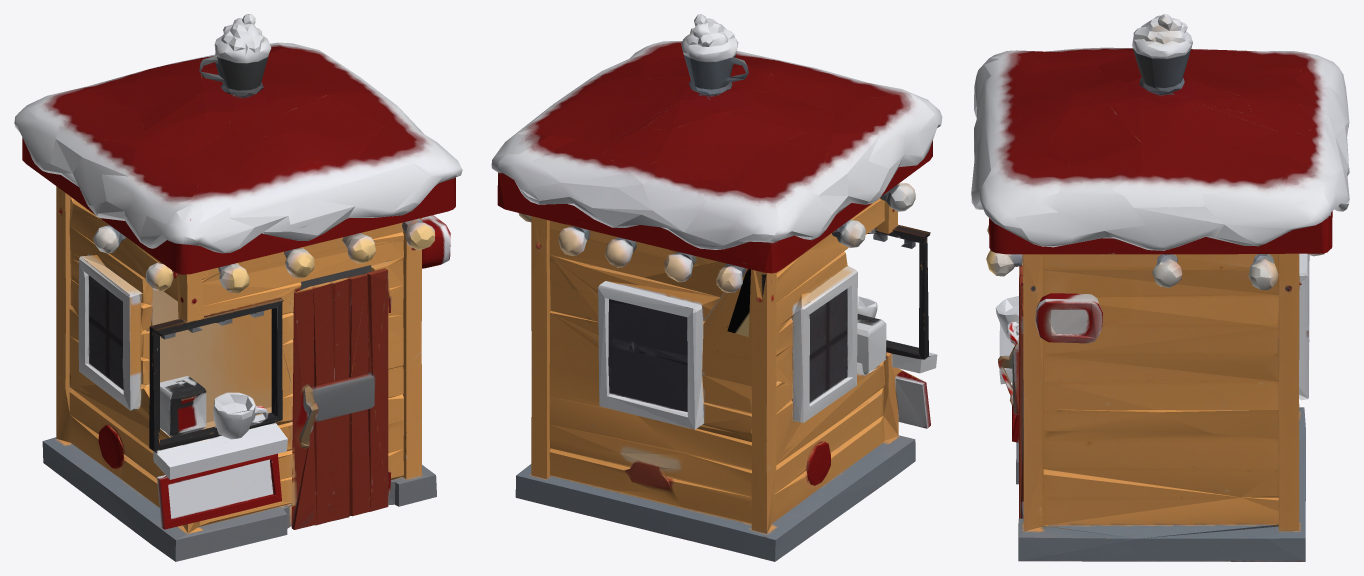
3 views of the same model, side by side, from view 1: azimuth 30°, elevation 25°; view 2: azimuth 150°, elevation 25°; view 3: azimuth 270°, elevation 25° (orthographic). The views are drawn at different scales.
Parts seen in each view (by area): view 1: output_unwrapped; view 2: output_unwrapped; view 3: output_unwrapped.
Boxes of the visible parts, x1,y1,x2,y2 form: output_unwrapped: (14, 14, 462, 561); output_unwrapped: (491, 14, 942, 561); output_unwrapped: (971, 14, 1349, 561).
Size of the model in its own units: 1.34 by 1.9 by 1.33.
1 material, 1 textured.
